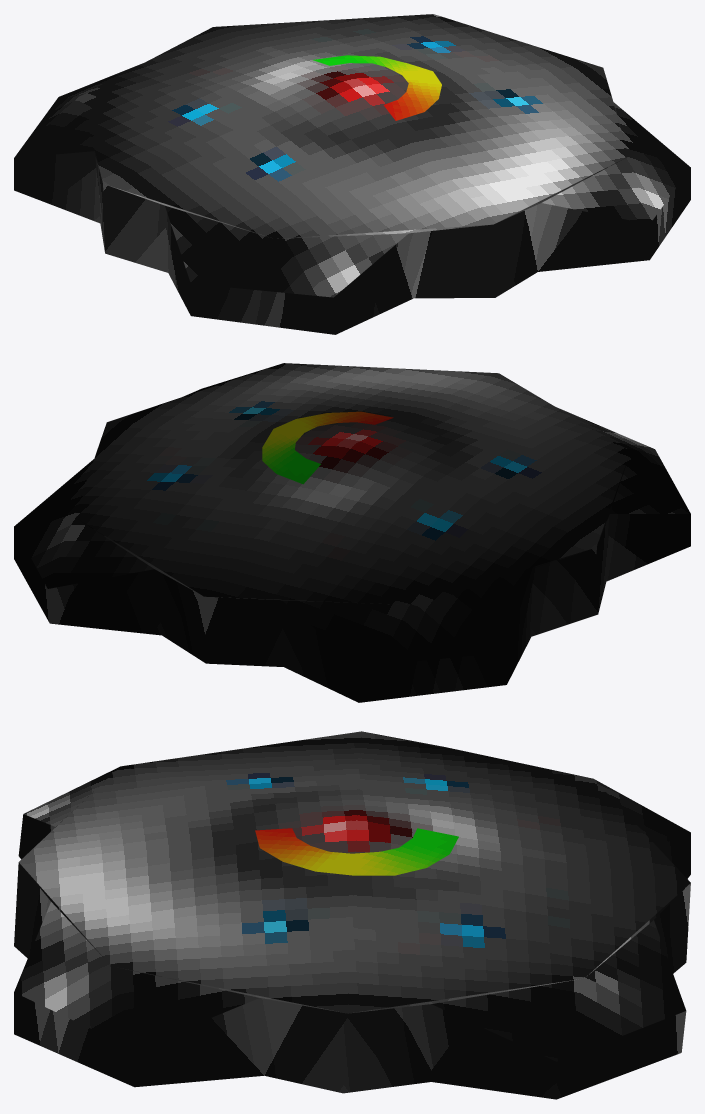
The model's file is PchrtimedmineZ.obj.
The picture shows the model from 3 angles, top to bottom: view 1: azimuth 30°, elevation 25°; view 2: azimuth 150°, elevation 25°; view 3: azimuth 270°, elevation 25°; orthographic projection. The views are drawn at different scales.
Bounding box in the file's own units: 146 × 33 × 146.
Materials: 4 (4 with a texture image).
